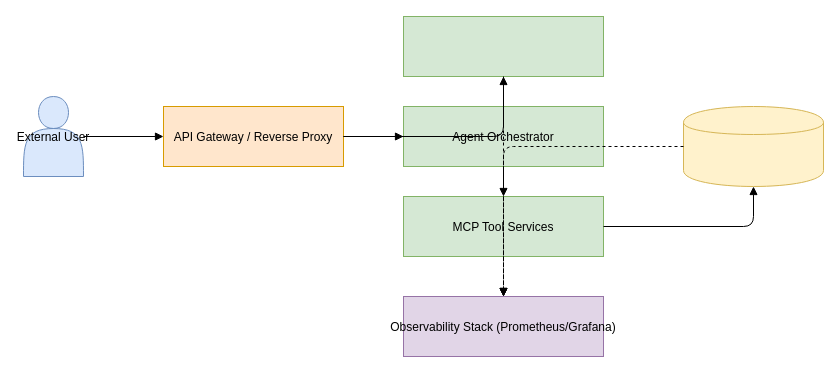
Some shapes in this 840 by 373 pixel diagram are drawn without their labels. The centre of each missing label's shape, as x and y in pixels:
"Application Service (FastAPI)" belongs at [503,46].
"Memgraph Database" belongs at [753,146].
